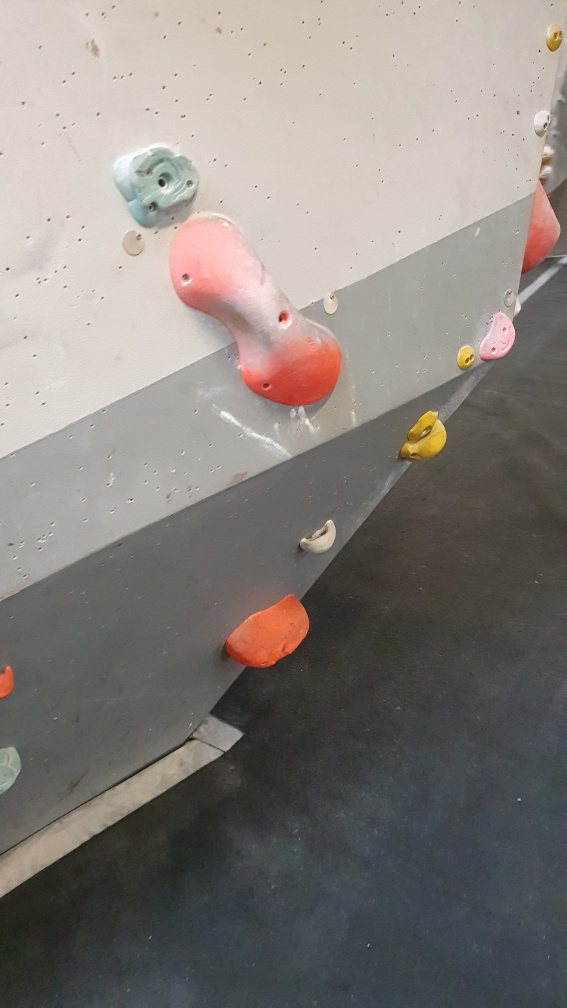Hand Start: (118, 227, 150, 258), (318, 288, 343, 321)
Jug: (299, 517, 338, 556)
Pinch: (167, 211, 343, 407)
